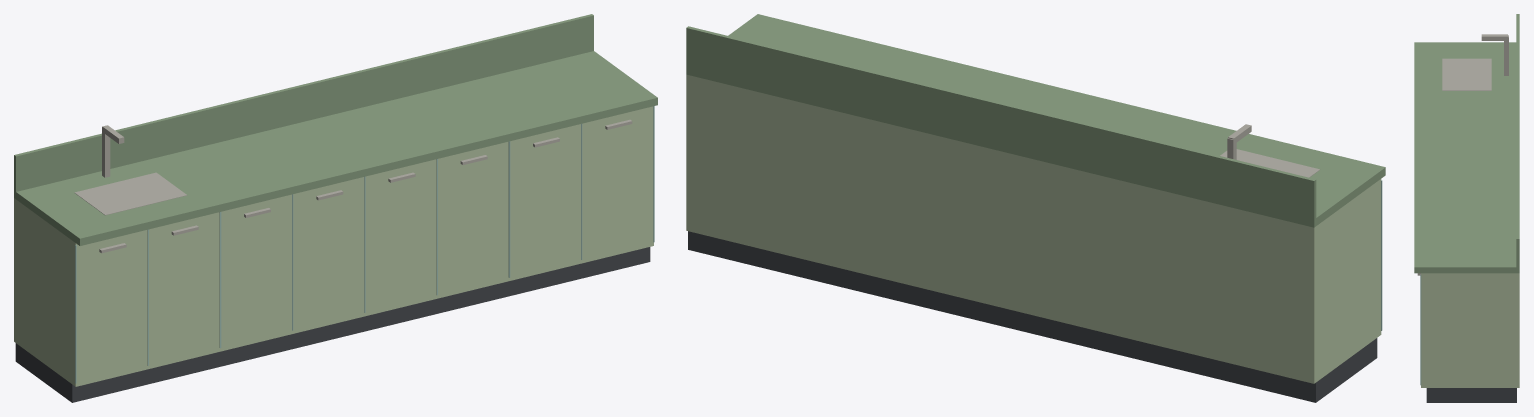
File: kitchen_run.glb
3 views of the same model, side by side, from view 1: azimuth 30°, elevation 25°; view 2: azimuth 150°, elevation 25°; view 3: azimuth 270°, elevation 25° (orthographic). The views are drawn at different scales.
Visible parts, largest first — view 1: kitchen_run; view 2: kitchen_run; view 3: kitchen_run.
Part boxes in pixels (bbox=[...]): kitchen_run: bbox=[14, 14, 657, 402]; kitchen_run: bbox=[686, 14, 1385, 402]; kitchen_run: bbox=[1414, 14, 1519, 402].
Size of the model in its own units: 3.25 by 1.17 by 0.64.
